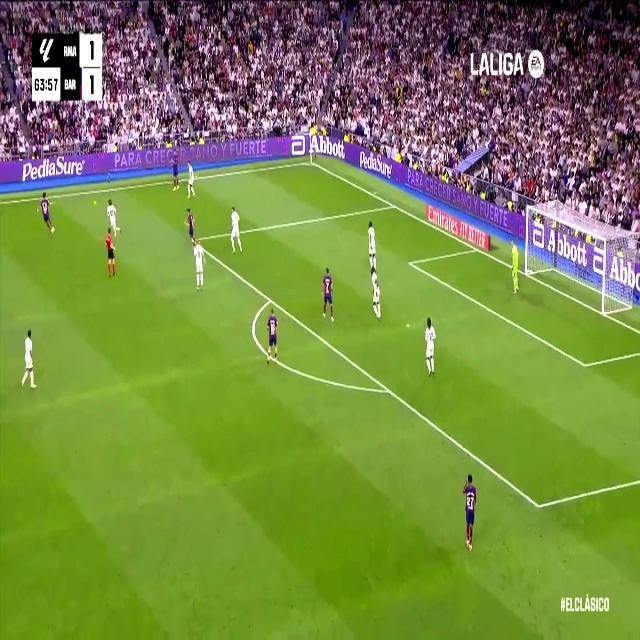bigarea_bottom_inner: (532, 491, 544, 520)
bigarea_top_outter: (388, 197, 398, 213)
bottom_arc_area_intersection: (382, 378, 393, 400)
corner: (306, 156, 316, 168)
smallarea_top_inner: (406, 254, 414, 270)
top_arc_area_intersection: (266, 290, 274, 307)
